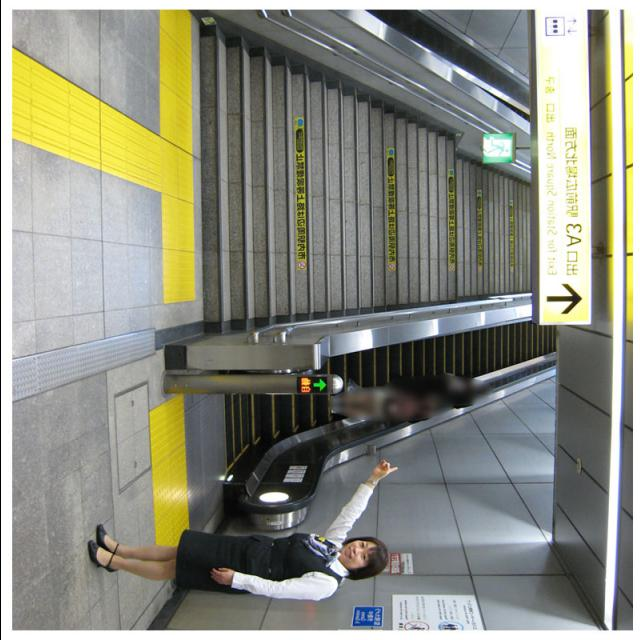tactile-guide-path: (9, 45, 161, 192), (161, 8, 195, 306), (144, 393, 190, 549)
